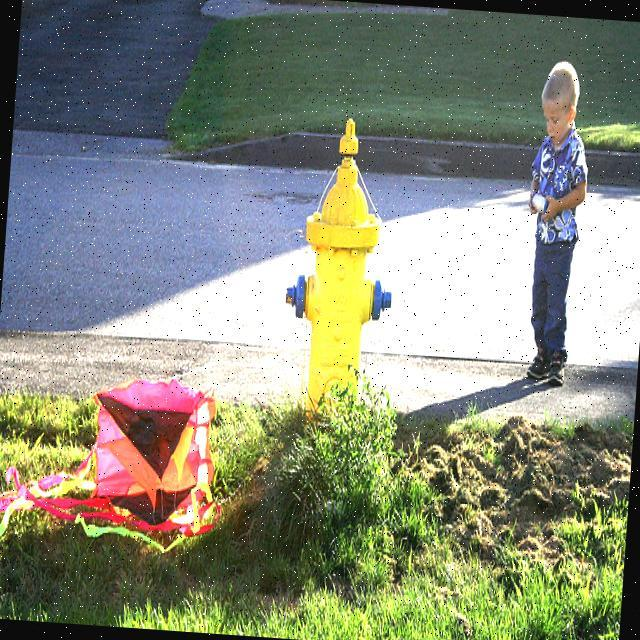fire_hydrant: (274, 108, 404, 446)
